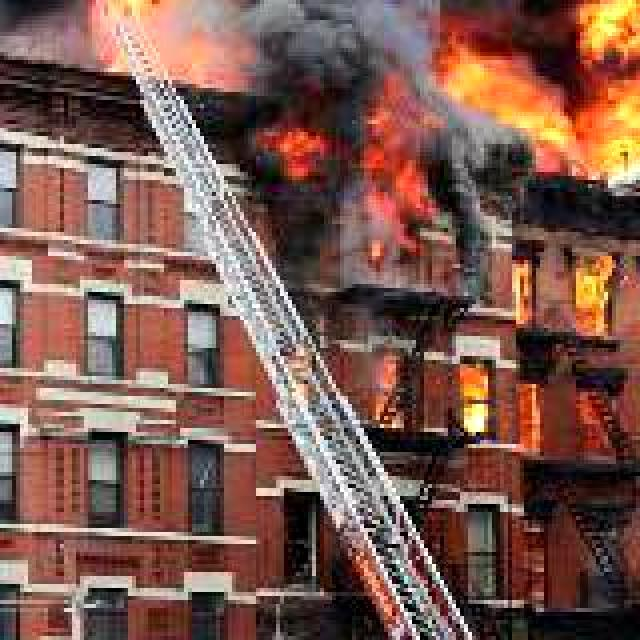fire: (500, 40, 640, 436), (220, 0, 480, 148), (268, 124, 436, 244), (104, 0, 200, 60), (448, 356, 496, 440)
